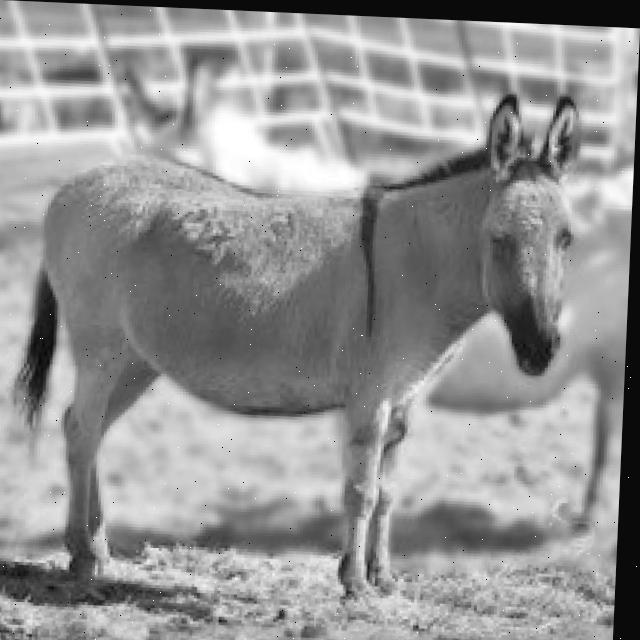Donkey: (2, 67, 586, 612), (76, 55, 633, 576)
